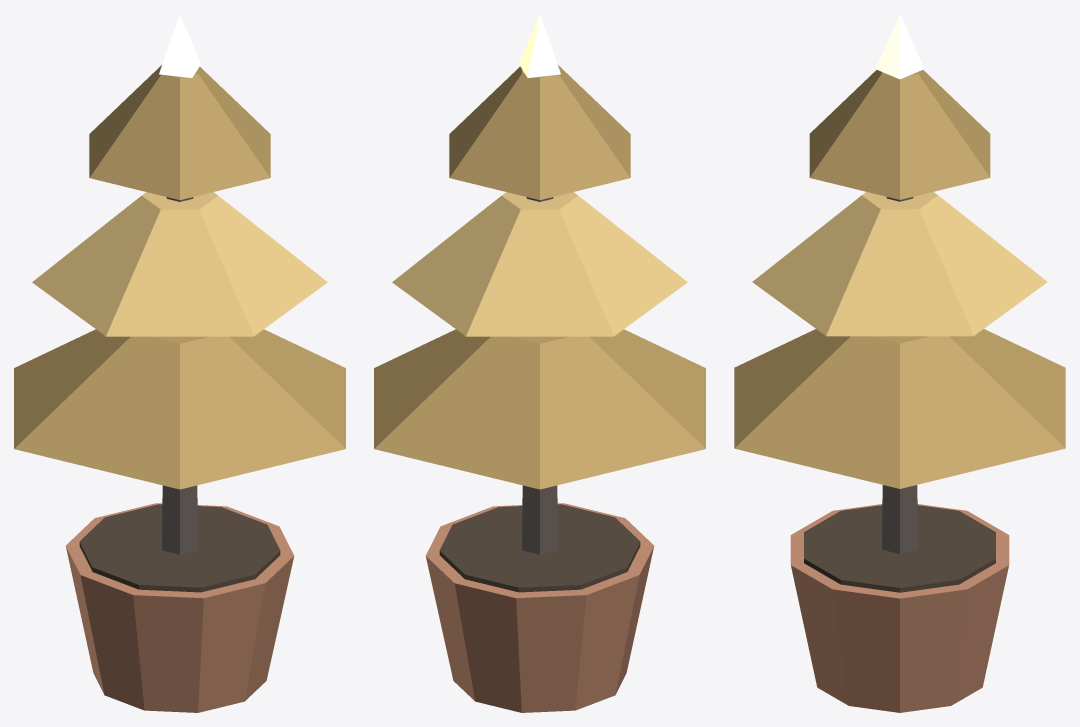
The picture shows the model from 3 angles, left to right: view 1: azimuth 30°, elevation 25°; view 2: azimuth 150°, elevation 25°; view 3: azimuth 270°, elevation 25°; orthographic projection.
Size of the model in its own units: 0.22 by 0.42 by 0.1905.
